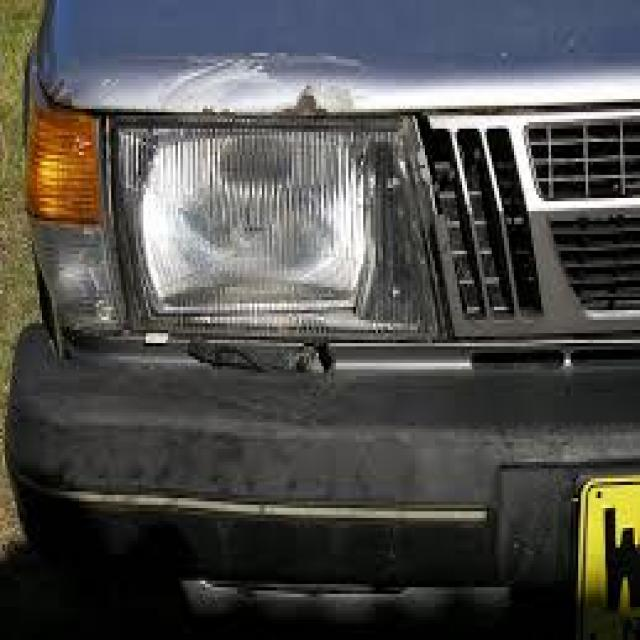minor: (69, 42, 396, 129)
